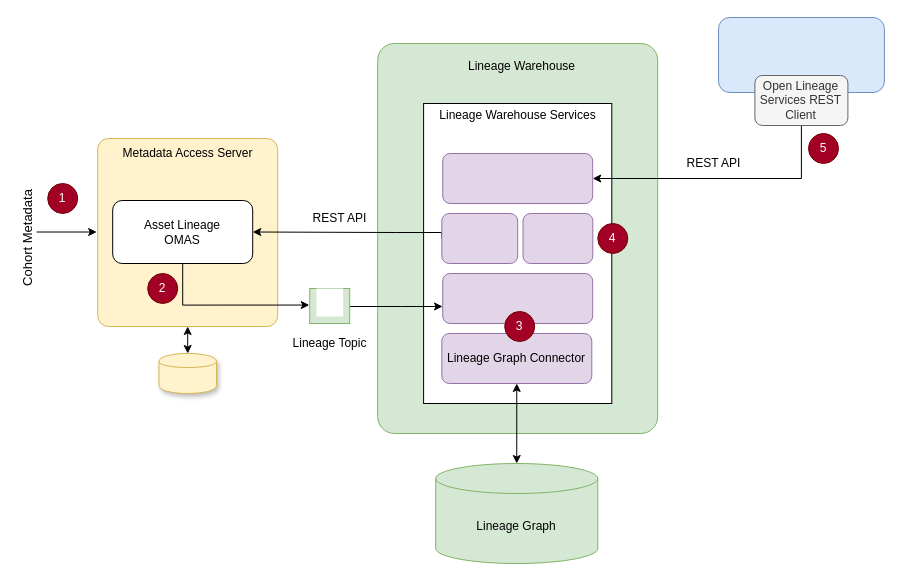
The diagram is 902 pixels wide and 581 high, and some of its shapes have lost their labels. Here are the shapes that lost their labels. From the top down, the centre of each, then its label:
At [801,54]: "Lineage GUI".
At [517,178]: "Lineage REST API".
At [479,238]: "Asset Lineage Client".
At [557,238]: "Lineage Jobs".
At [517,298]: "Lineage Event Listener".
